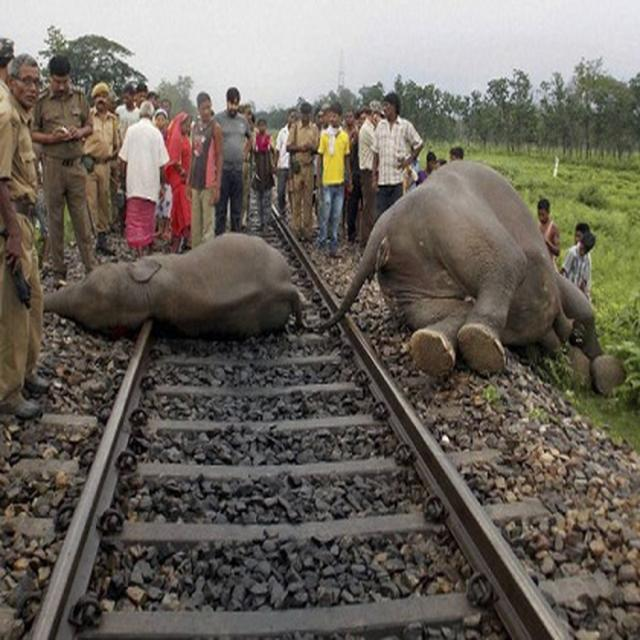Elephant: (360, 156, 576, 382), (61, 227, 302, 341)
